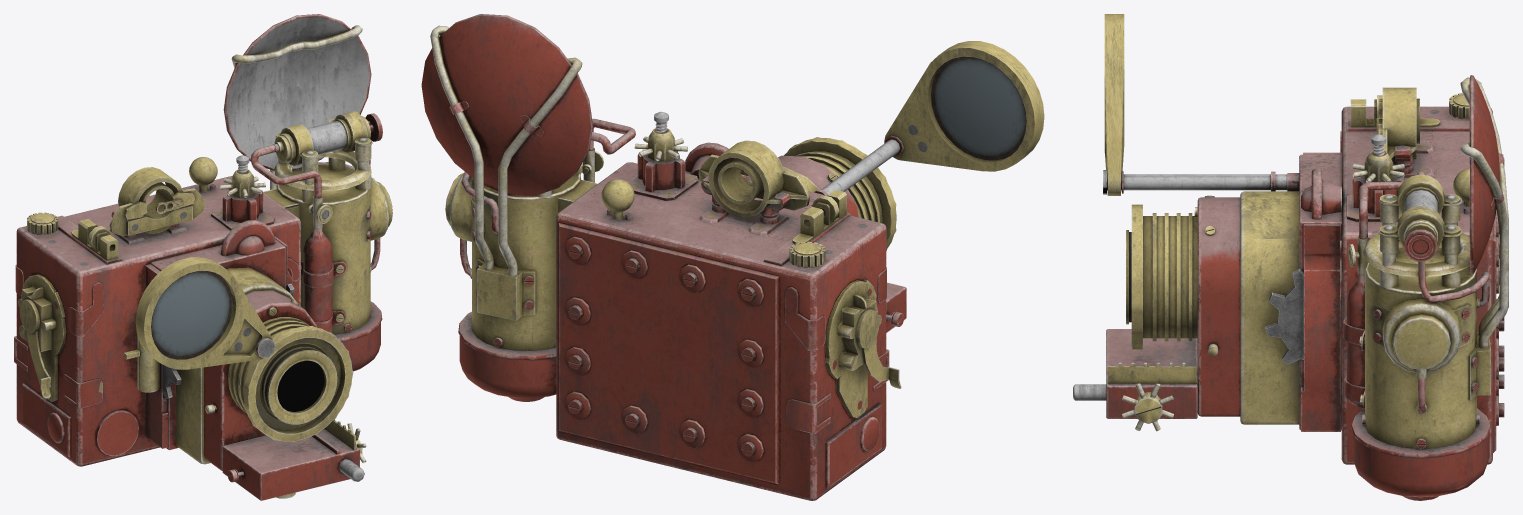
The model's file is steampunk_camera.glb.
3 renders of one model, left to right at view 1: azimuth 30°, elevation 25°; view 2: azimuth 150°, elevation 25°; view 3: azimuth 270°, elevation 25°, orthographic. The views are drawn at different scales.
Visible parts, largest first — view 1: defaultMaterial (×3); view 2: defaultMaterial (×3); view 3: defaultMaterial (×3).
Boxes of the visible parts, x1,y1,x2,y2 form: defaultMaterial (×3): (14,14,392,500); defaultMaterial (×3): (421,14,1044,500); defaultMaterial (×3): (1073,14,1508,500).
Size of the model in its own units: 2 by 1.74 by 1.67.
3 materials, 3 textured.
